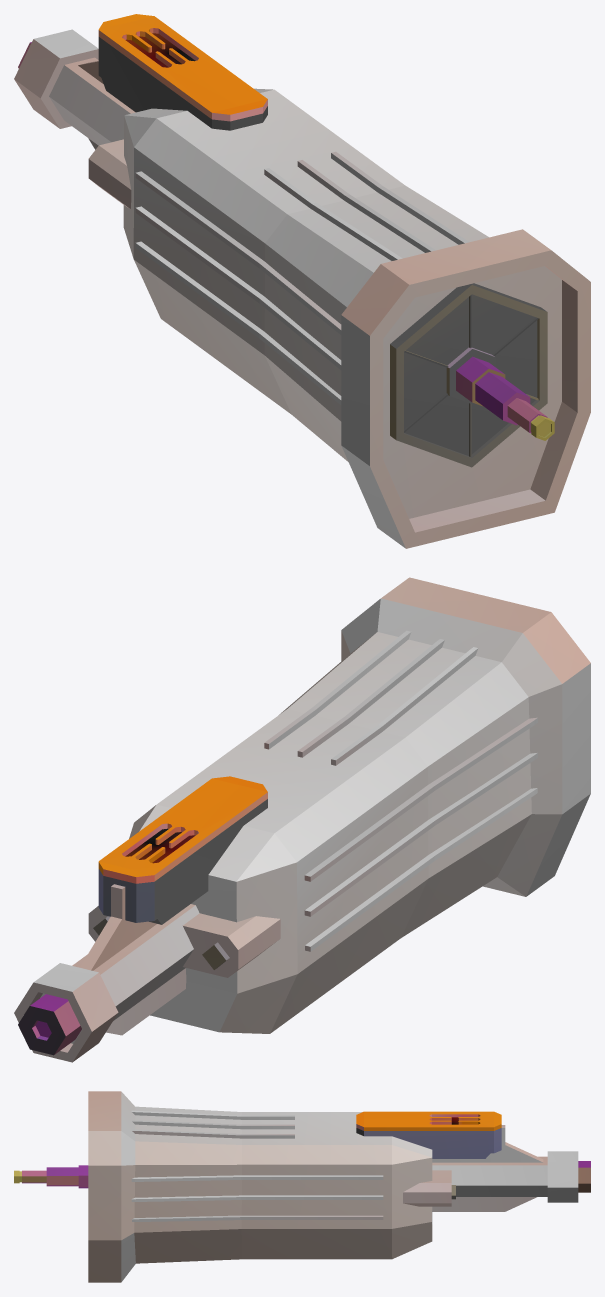
File: GearboxLvl3.fbx
3 views of the same model, one above another, from view 1: azimuth 30°, elevation 25°; view 2: azimuth 150°, elevation 25°; view 3: azimuth 270°, elevation 25° (orthographic). The views are drawn at different scales.
Parts seen in each view (by area): view 1: gearbox_lvl3; view 2: gearbox_lvl3; view 3: gearbox_lvl3.
Part boxes in pixels (bbox=[...]): gearbox_lvl3: bbox=[14, 14, 590, 548]; gearbox_lvl3: bbox=[14, 577, 590, 1062]; gearbox_lvl3: bbox=[14, 1091, 590, 1282].
Size of the model in its own units: 0.5945 by 0.6764 by 2.35.
